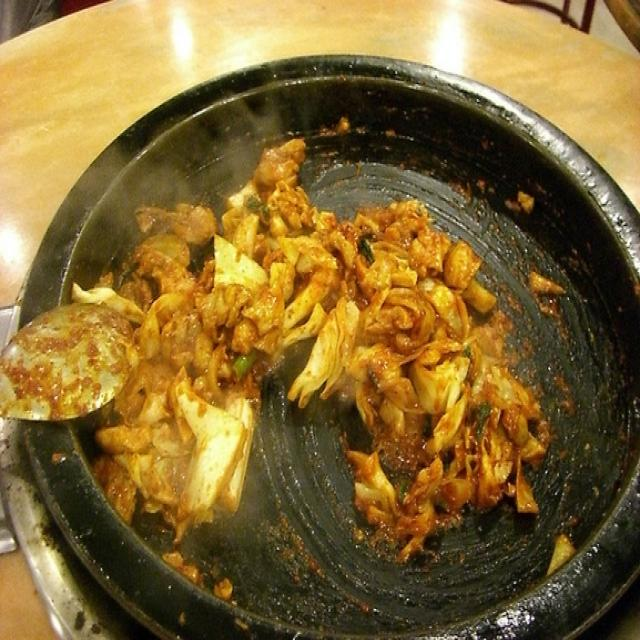鸡肉料理 含炸鸡: (23, 47, 621, 615)
